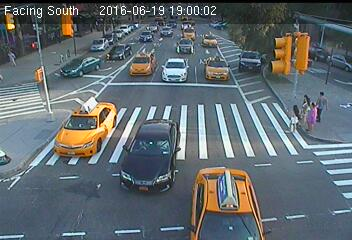neg: (95, 39, 108, 56), (120, 24, 133, 41), (59, 46, 72, 62)
pos: (282, 103, 307, 137), (3, 44, 21, 68)
